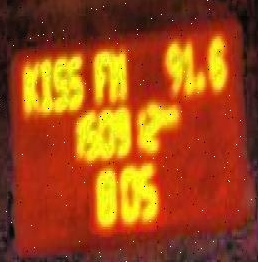-: (194, 64, 204, 92)
0: (117, 163, 137, 221), (97, 104, 114, 158)
1: (183, 33, 193, 97), (72, 115, 83, 160), (135, 102, 144, 153)
2: (145, 99, 159, 153)
5: (139, 158, 159, 229), (83, 107, 97, 160)
6: (207, 28, 228, 94)
8: (94, 163, 117, 229)
9: (164, 36, 181, 99), (116, 104, 132, 158)
X: (108, 46, 129, 102), (67, 51, 84, 110), (20, 61, 38, 115), (90, 49, 109, 100), (52, 54, 67, 112), (39, 61, 52, 112)
